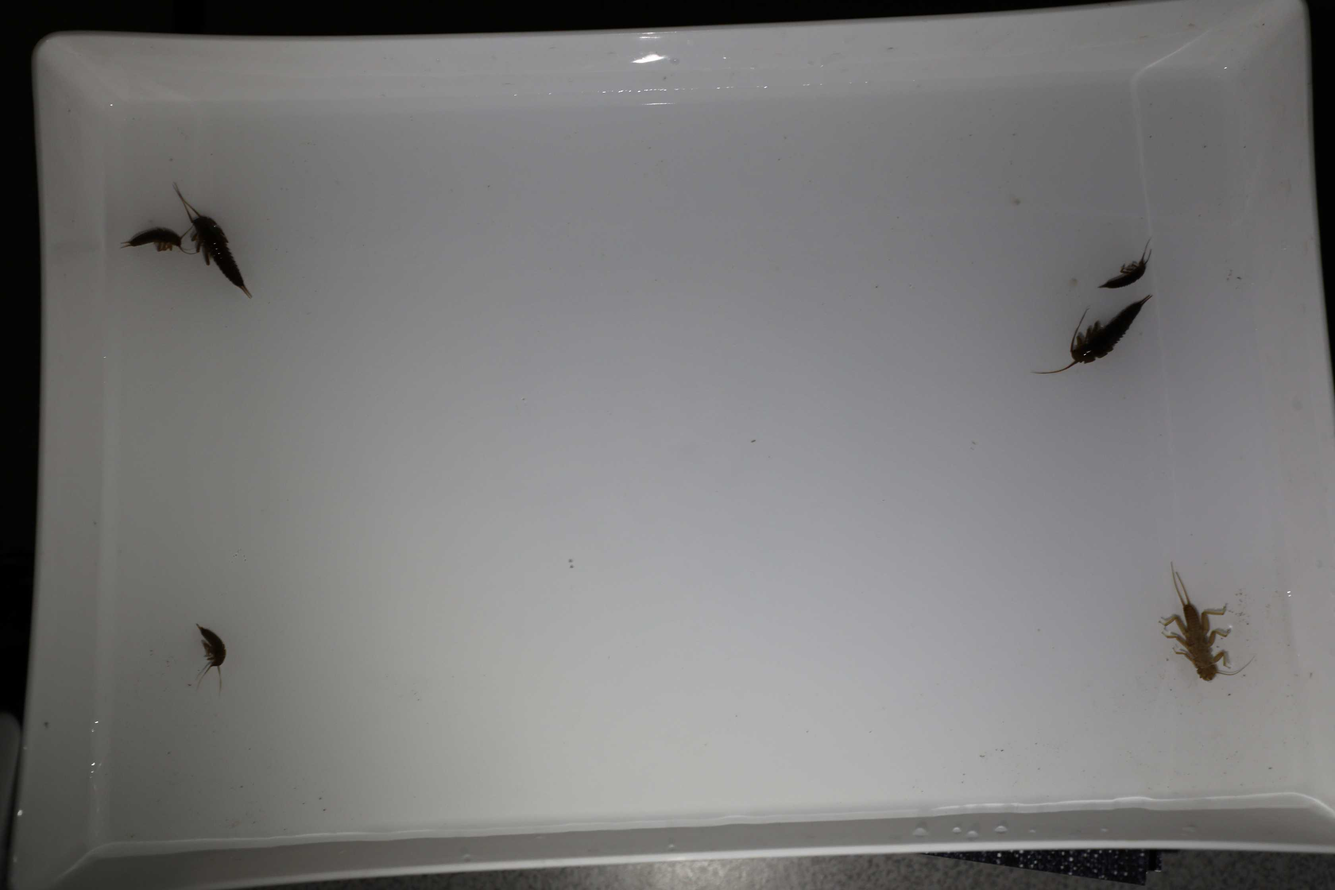Stonefly: (1030, 292, 1151, 383), (1156, 561, 1247, 682), (170, 180, 253, 302), (1088, 238, 1153, 294), (119, 221, 190, 261), (195, 624, 230, 689)
